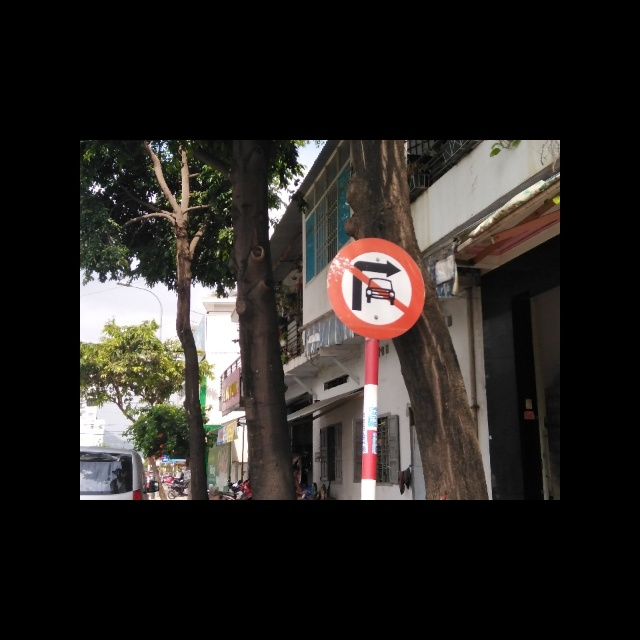Cấm xe ô tô rẽ trái: (325, 238, 426, 341)
